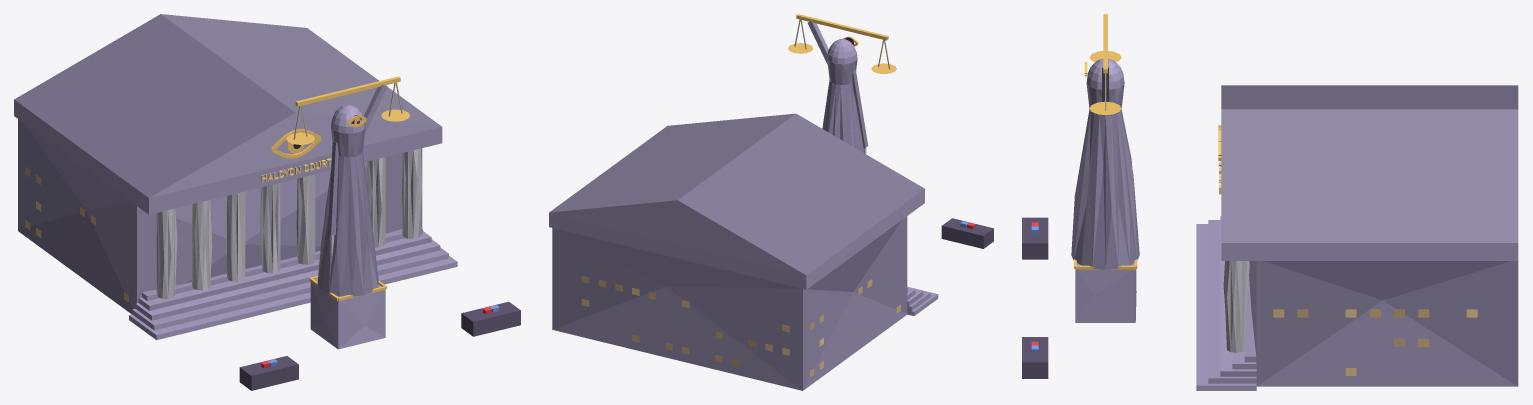
File: halcyon_site.glb
The picture shows the model from 3 angles, left to right: view 1: azimuth 30°, elevation 25°; view 2: azimuth 150°, elevation 25°; view 3: azimuth 270°, elevation 25°; orthographic projection. The views are drawn at different scales.
Visible parts, largest first — view 1: halcyon_site__solid, halcyon_site__neon, halcyon_site; view 2: halcyon_site__solid, halcyon_site__win, halcyon_site__neon; view 3: halcyon_site__solid, halcyon_site__neon, halcyon_site__win.
Part boxes in pixels (x1,y1,x2,y2): halcyon_site__solid: (14, 14, 520, 390); halcyon_site__neon: (261, 76, 499, 364); halcyon_site: (261, 158, 331, 182); halcyon_site__solid: (549, 19, 993, 390); halcyon_site__win: (581, 275, 900, 376); halcyon_site__neon: (788, 14, 975, 225); halcyon_site__solid: (1022, 58, 1518, 390); halcyon_site__neon: (1031, 14, 1221, 349); halcyon_site__win: (1273, 309, 1477, 375).
Bounding box in the file's own units: 30.4 × 23.54 × 39.49.
